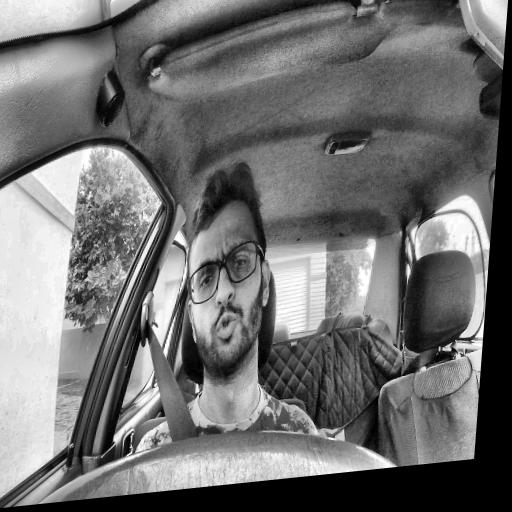awake: (177, 156, 280, 384)
